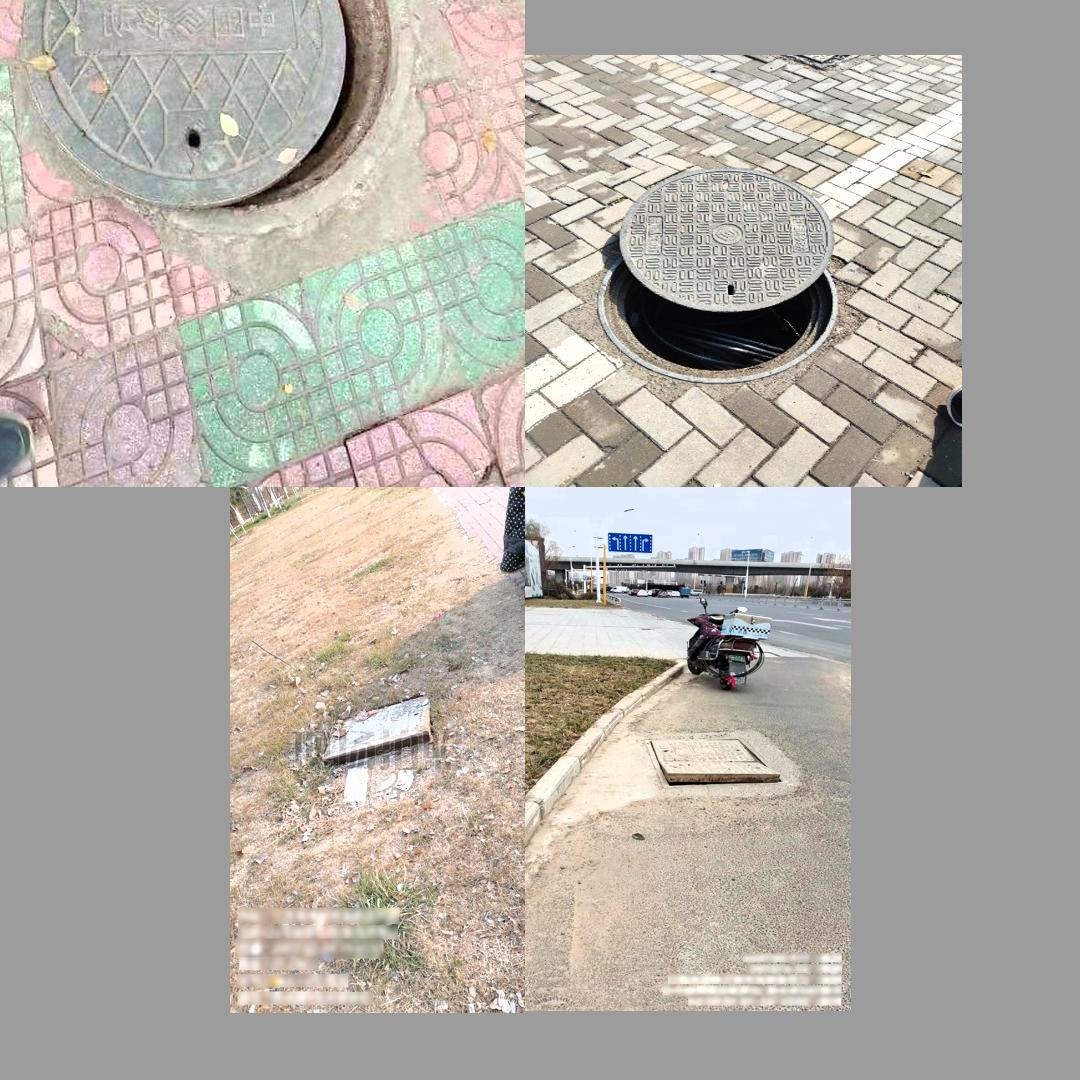uncovered: (2, 0, 402, 245), (597, 174, 863, 381), (314, 688, 452, 766), (646, 737, 781, 789)
